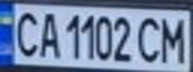0: (93, 11, 115, 61)
1: (60, 11, 81, 60), (78, 11, 96, 60)
2: (112, 12, 136, 63)
A: (36, 8, 60, 59)
C: (9, 7, 42, 58), (136, 12, 163, 64)
M: (157, 13, 190, 64)
